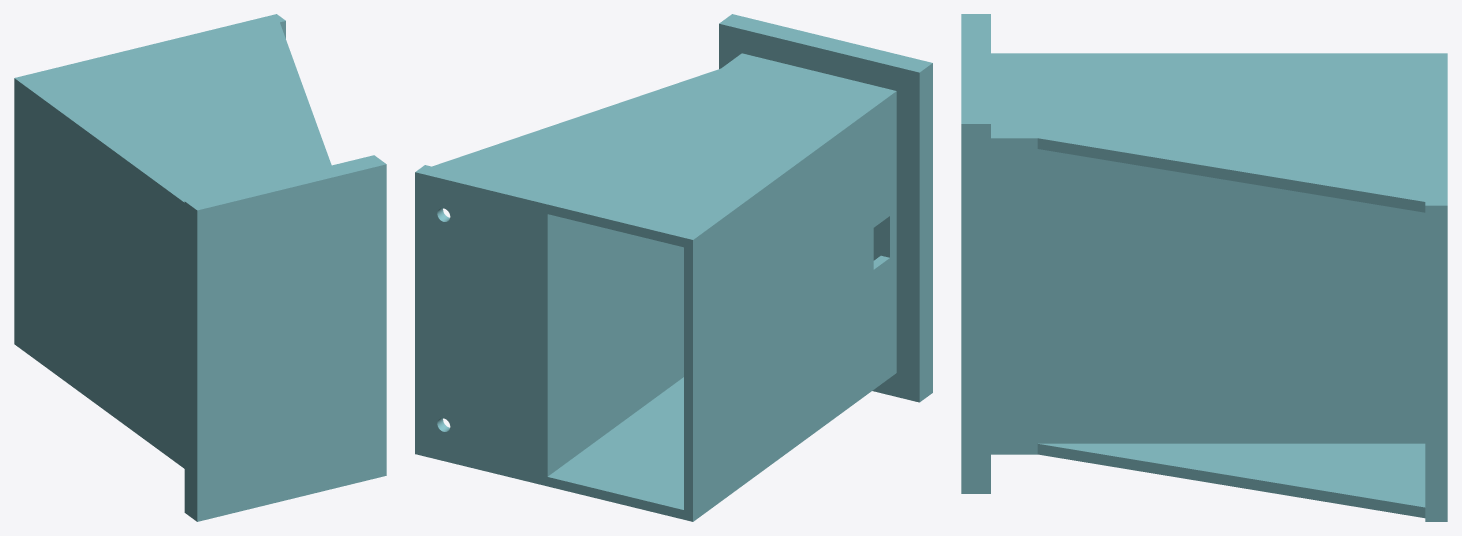
Rendered from so101_stand.glb.
3 views of the same model, side by side, from view 1: azimuth 30°, elevation 25°; view 2: azimuth 150°, elevation 25°; view 3: azimuth 270°, elevation 25° (orthographic). The views are drawn at different scales.
Parts seen in each view (by area): view 1: pedestal; view 2: pedestal; view 3: pedestal.
Part boxes in pixels (x1,y1,x2,y2): pedestal: (14,14,386,521); pedestal: (415,14,932,521); pedestal: (961,14,1447,521).
Bounding box in the file's own units: 0.105 × 0.11 × 0.131.
